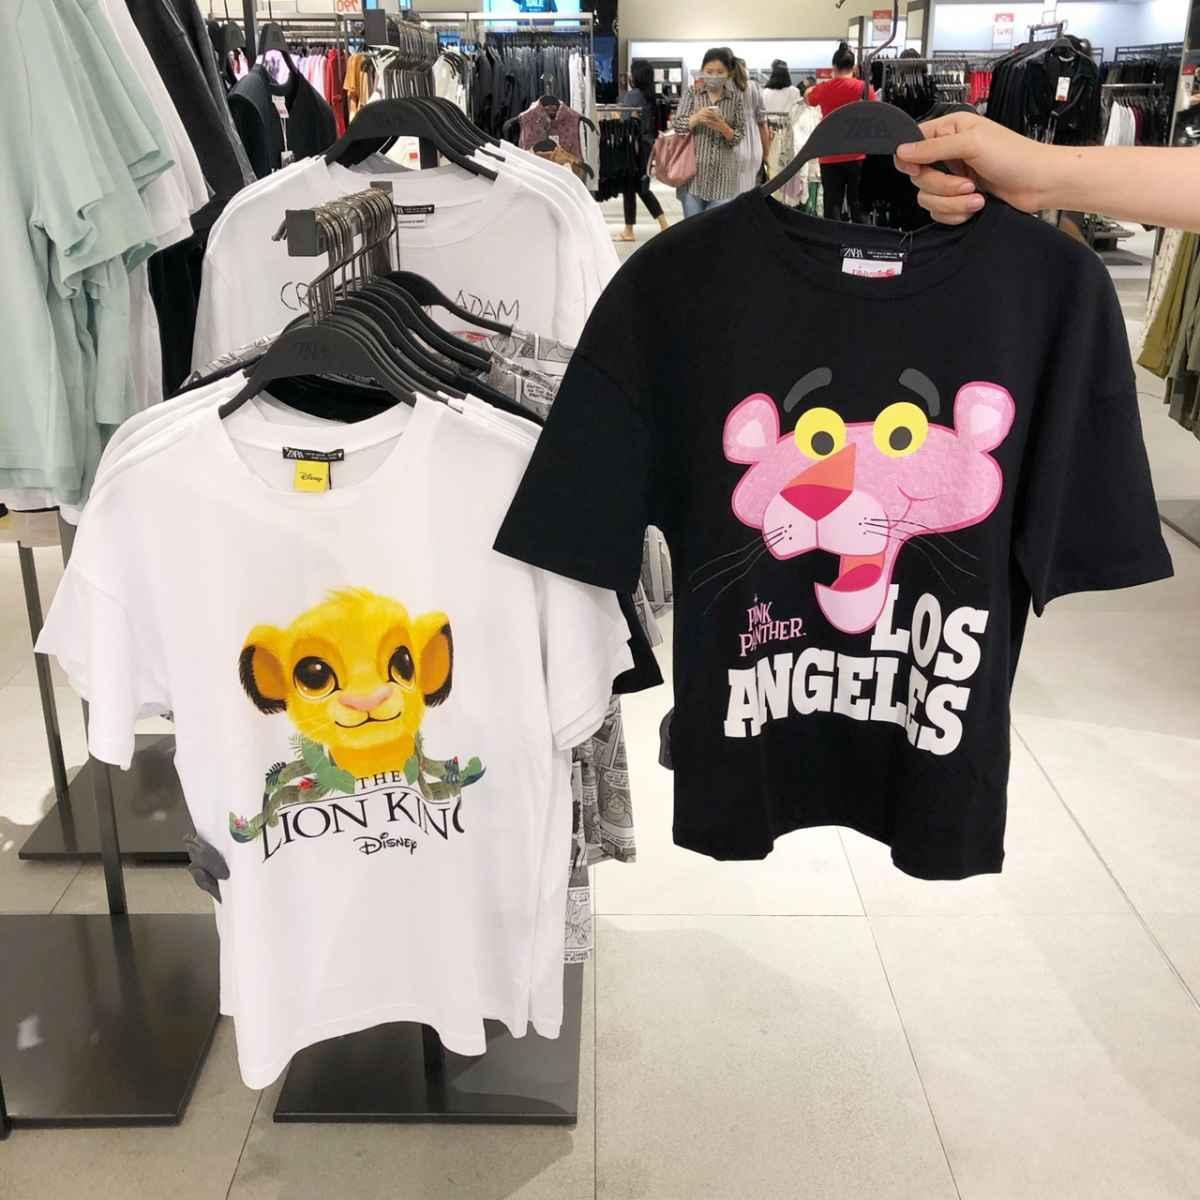Tshirt: (511, 168, 1145, 858), (60, 390, 586, 1034)
